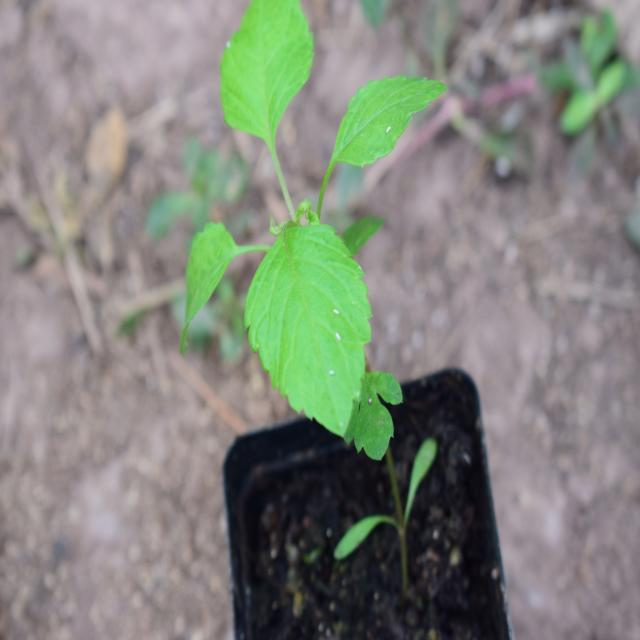Bidens pilosa: (185, 0, 450, 452)
